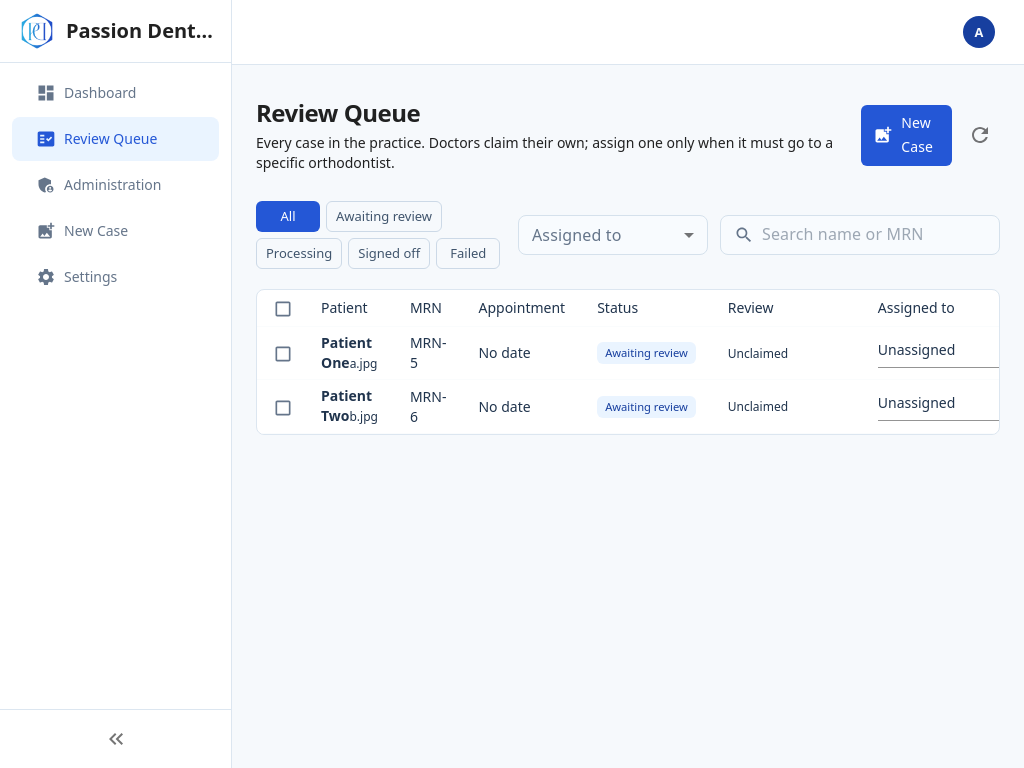
Test: role scoping › offers a bulk assign bar once cases are ticked
Expected: the link "Patient One" is shown, [321, 332, 372, 372]
Expected: the text "selected" is not shown
Click the checkbox named "select case for Patient One".
click(283, 354)  # box [273, 344, 293, 364]
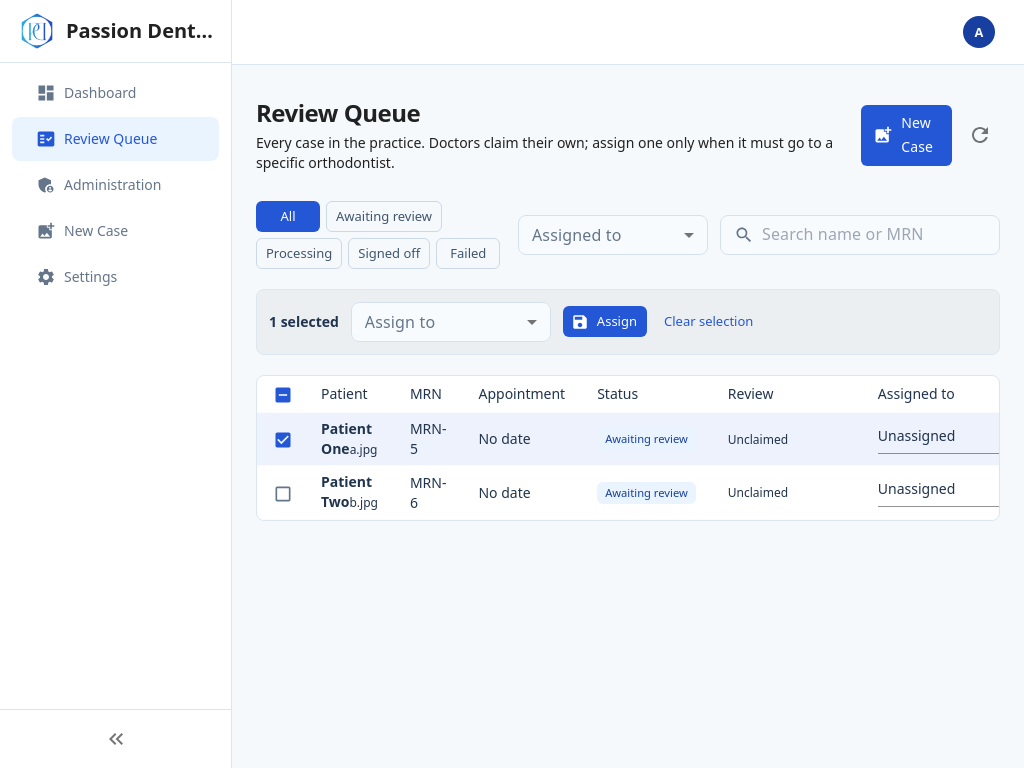
Now the text "1 selected" is shown, box [269, 312, 339, 332]
Select-all covers both rows.
Click the checkbox named "select all cases".
click(283, 395)  # box [273, 385, 293, 405]
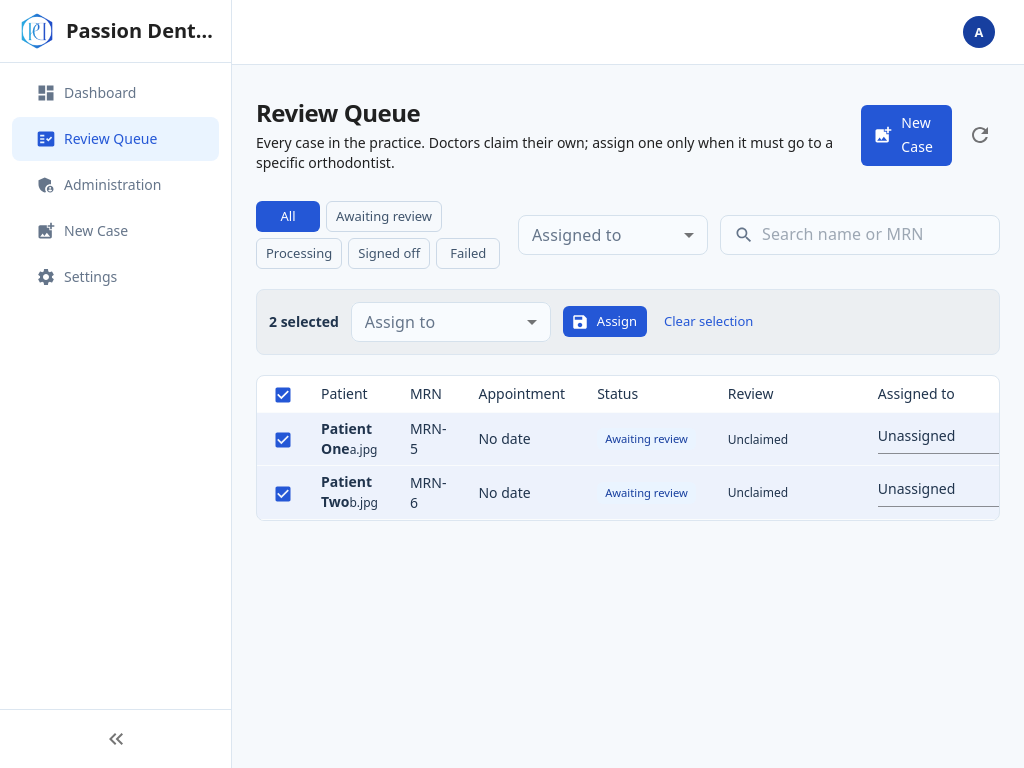
Now the text "2 selected" is shown, box [269, 312, 339, 332]
